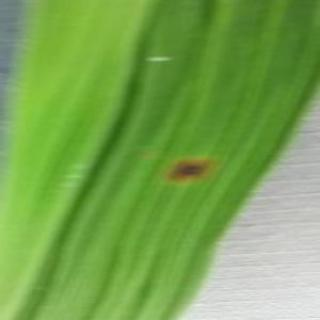bercak-Cokelat: (161, 146, 216, 192)
